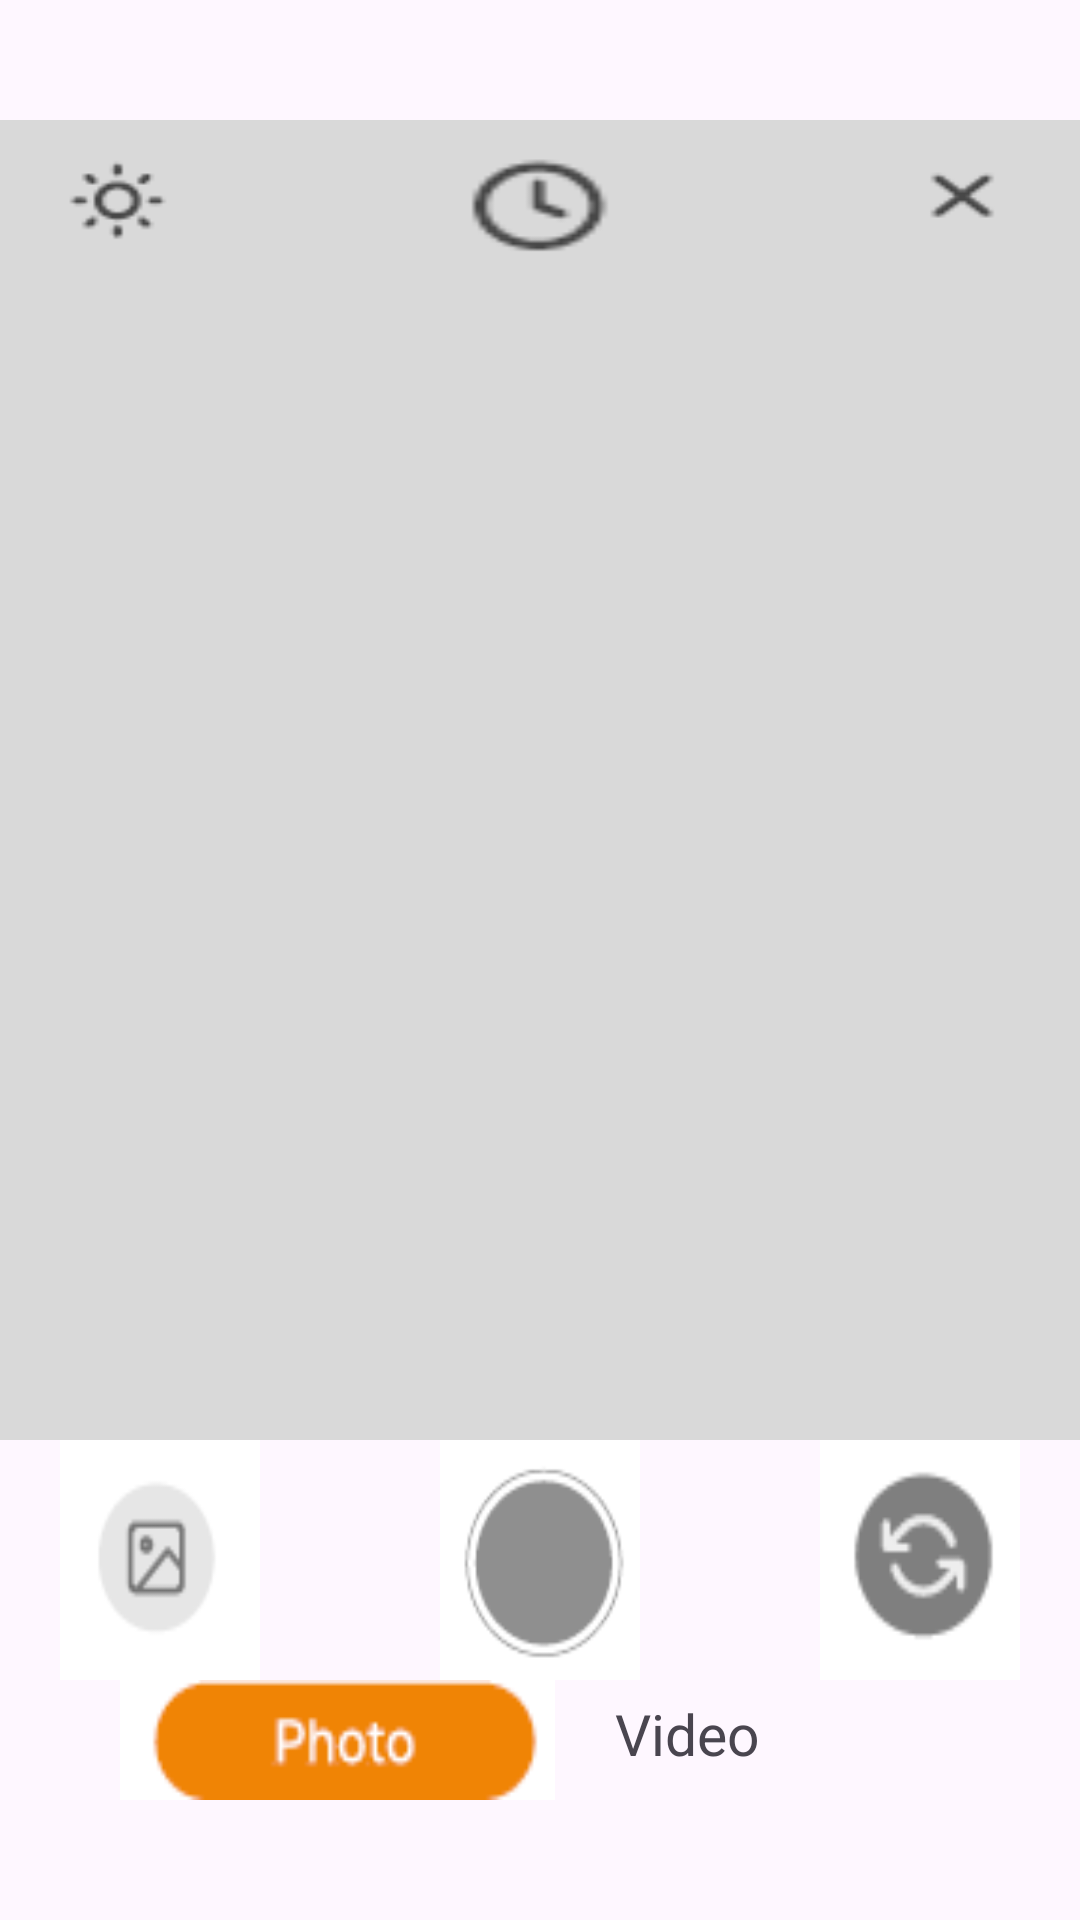

Screen size 1080w x 1920h. Icon name, then its box in pixels as (x1, y1, x2, y2):
timera: (472, 160, 607, 251)
